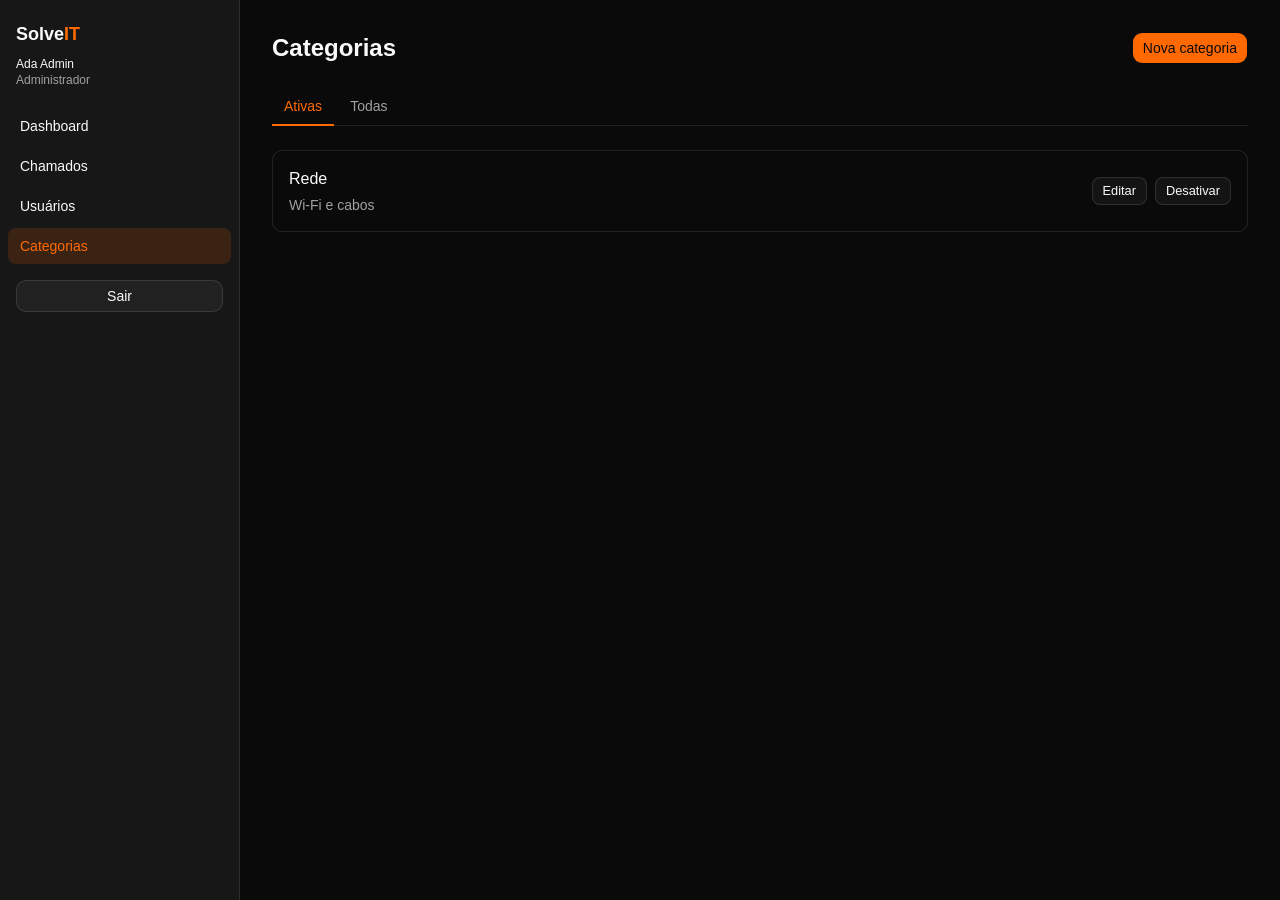
Test: administração de categorias › mostra nome repetido no próprio campo
Step 1. Click the button "Editar" → {"x": 1119, "y": 191}, box [1092, 177, 1147, 205]
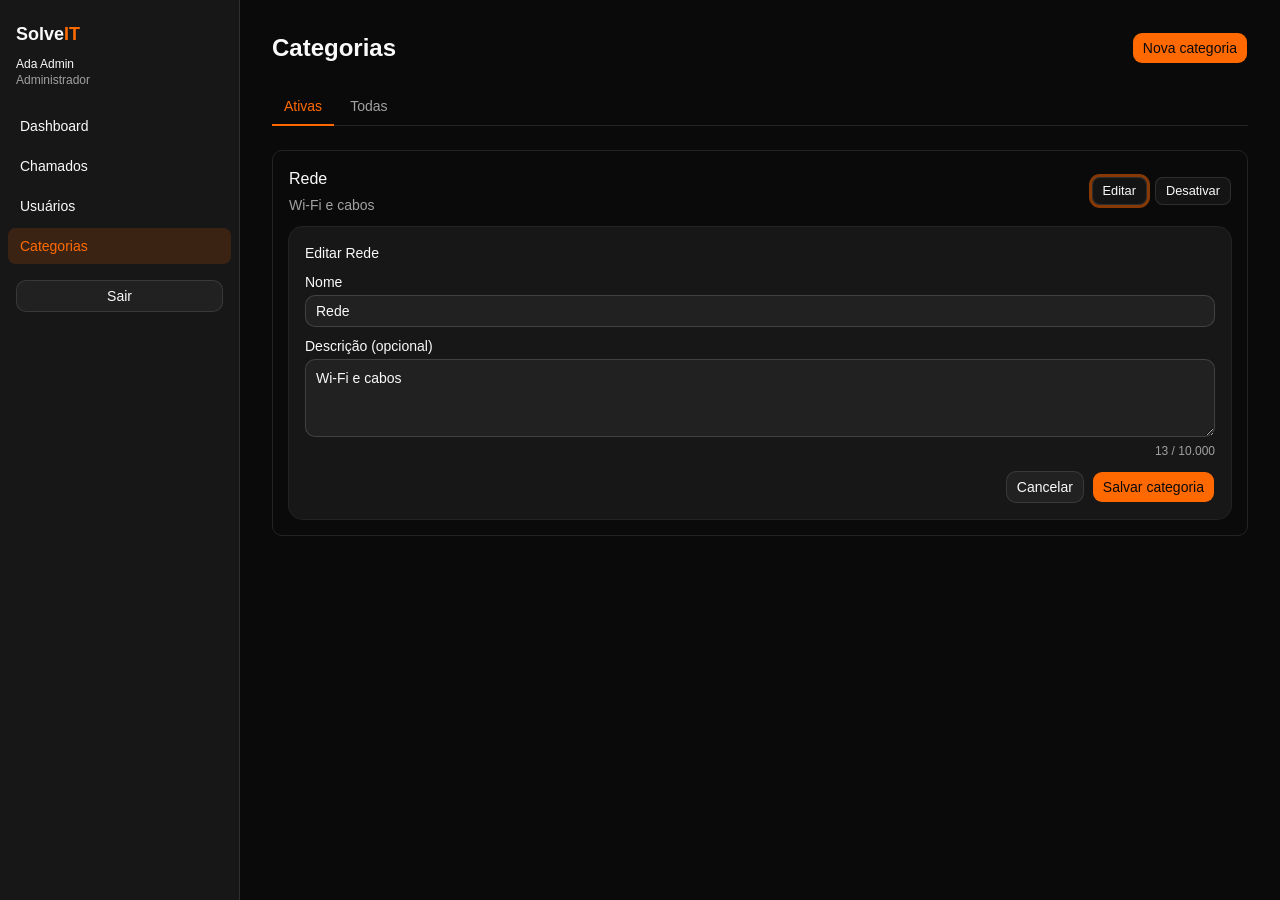
Step 2. Replace the text in the field labelled "Nome" with "Impressoras" → {"x": 760, "y": 311}, box [305, 295, 1215, 327]
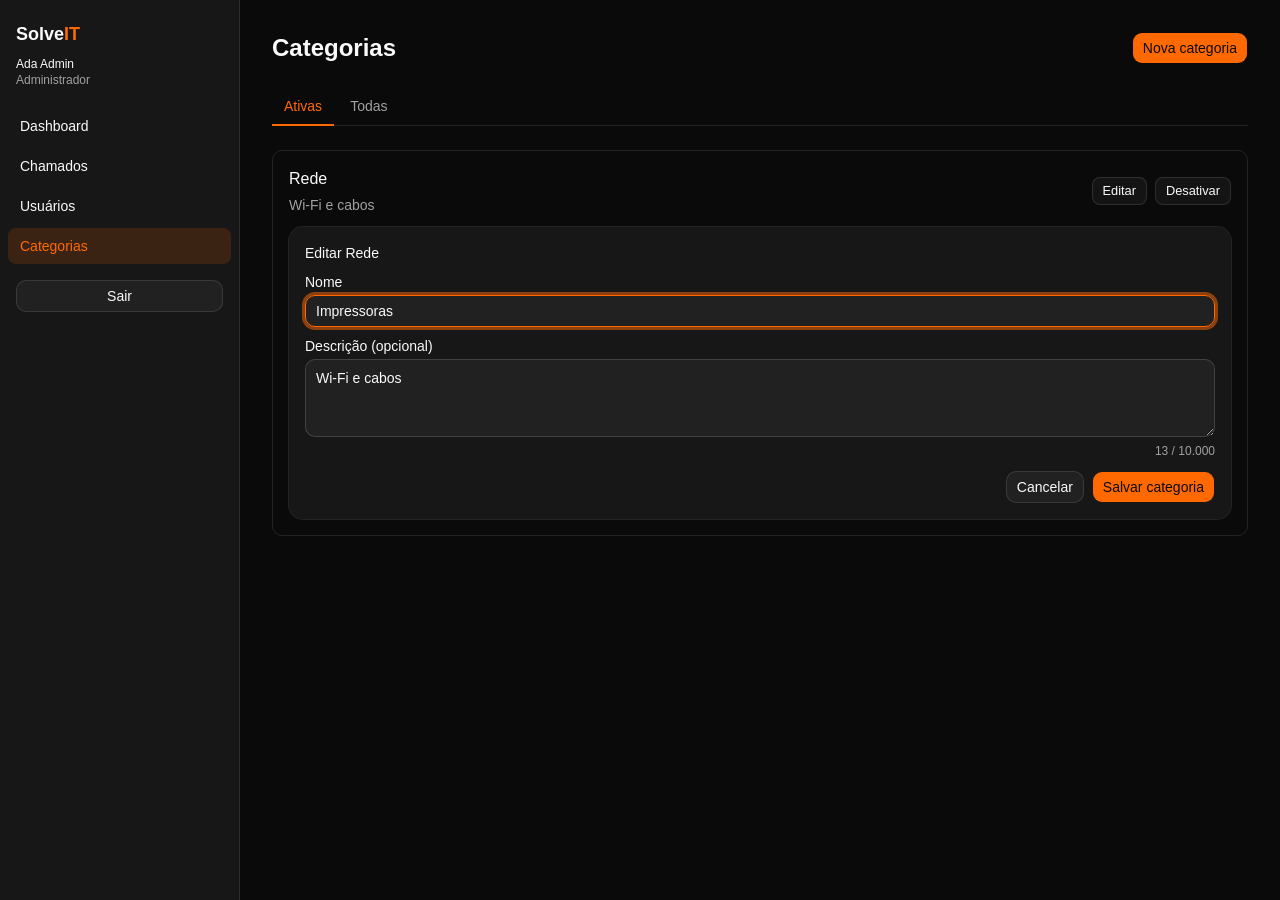
Step 3. Click the button "Salvar categoria" → {"x": 1153, "y": 487}, box [1092, 471, 1215, 503]
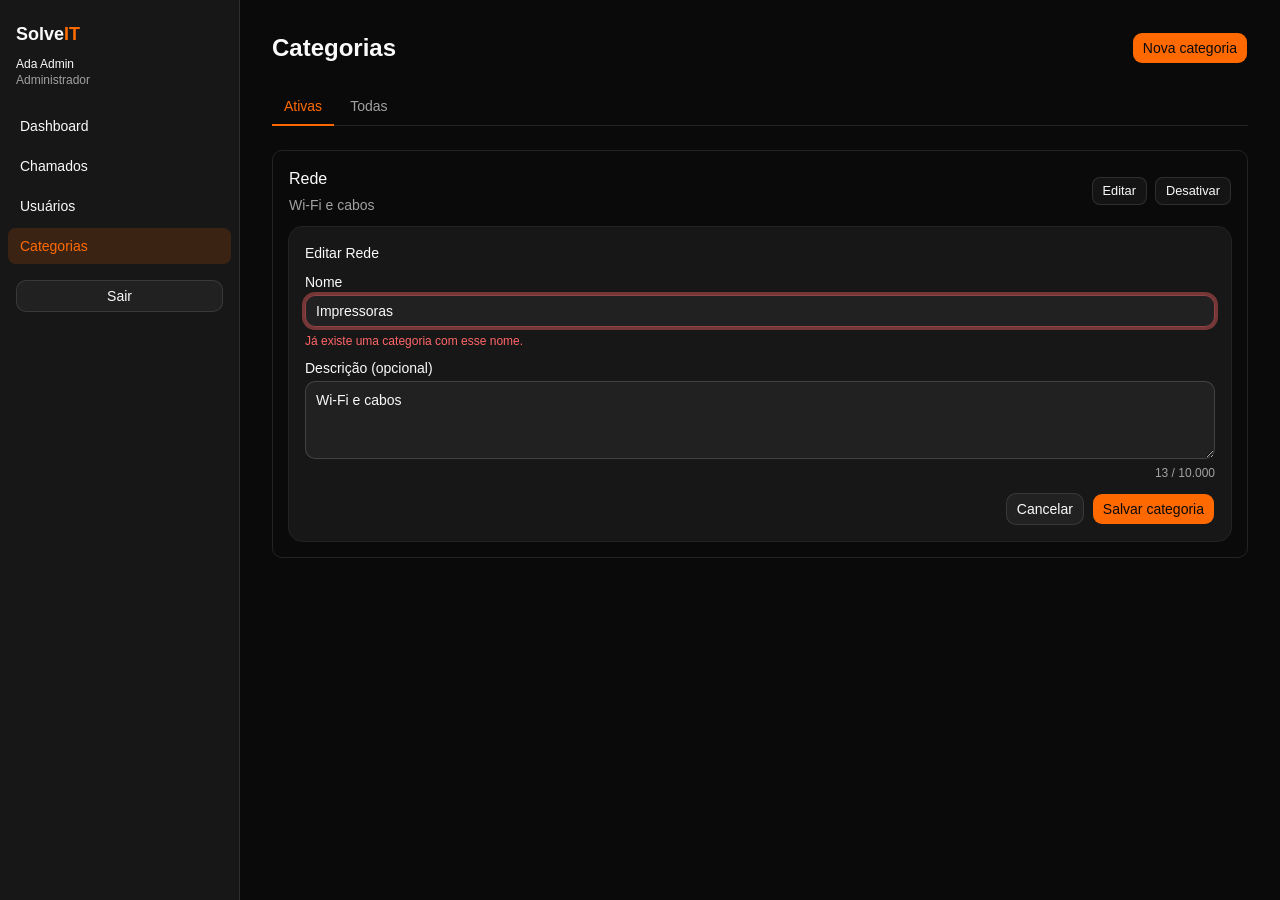
Result: the text "Já existe uma categoria com esse nome." is shown at [305, 334, 523, 348]
